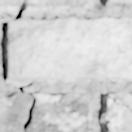brick: (5, 17, 131, 82), (100, 96, 131, 131), (110, 93, 131, 107), (105, 0, 131, 6)
broken_brick: (0, 90, 90, 131), (0, 0, 90, 8)
crack: (0, 2, 131, 130), (107, 93, 131, 113)
